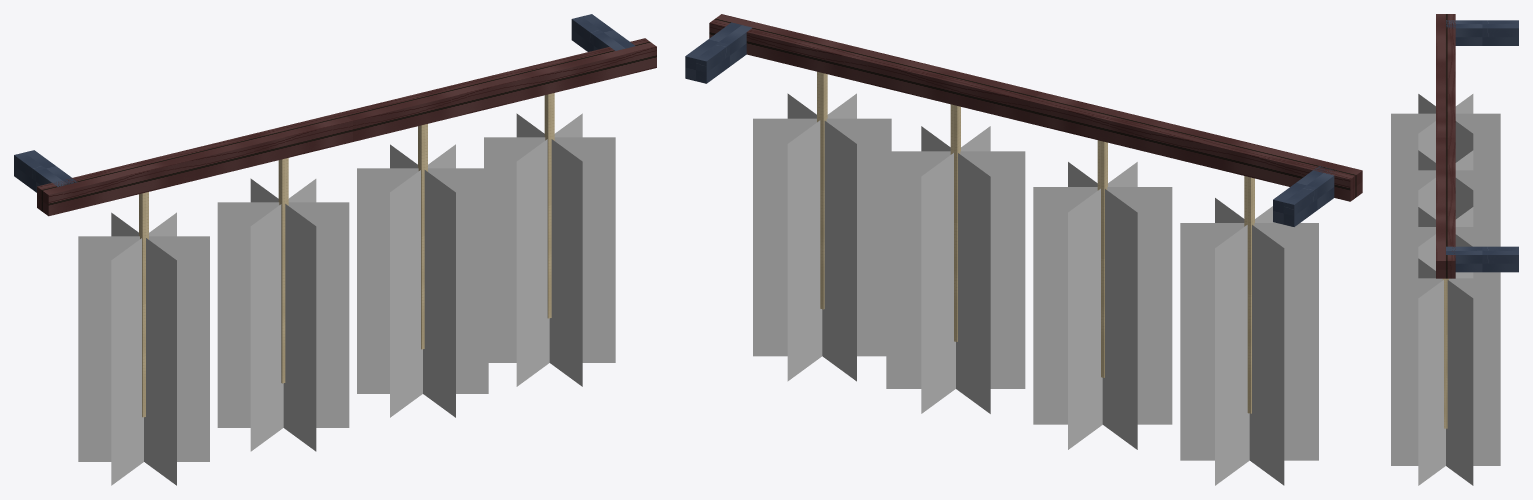
File: Hanging_Herbs.fbx
3 renders of one model, left to right at view 1: azimuth 30°, elevation 25°; view 2: azimuth 150°, elevation 25°; view 3: azimuth 270°, elevation 25°, orthographic. The views are drawn at different scales.
Visible parts, largest first — view 1: Hanging_Herbs.001; view 2: Hanging_Herbs.001; view 3: Hanging_Herbs.001.
Part boxes in pixels (x1,y1,x2,y2): Hanging_Herbs.001: (14, 14, 656, 485); Hanging_Herbs.001: (685, 14, 1362, 485); Hanging_Herbs.001: (1391, 14, 1518, 485).
Bounding box in the file's own units: 240 × 112 × 52.5.
Materials: 4 (3 with a texture image).
